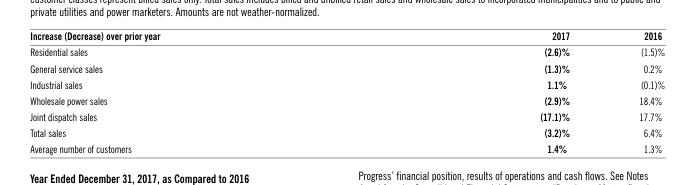table: (29, 29, 664, 154)
table column: (29, 29, 349, 154), (349, 29, 603, 154), (603, 29, 664, 154)
table column header: (29, 29, 664, 43)
table row: (29, 123, 664, 140), (29, 43, 664, 59), (29, 59, 664, 75), (29, 75, 664, 91), (29, 91, 664, 107), (29, 107, 664, 123), (29, 29, 664, 43), (29, 140, 664, 154)
